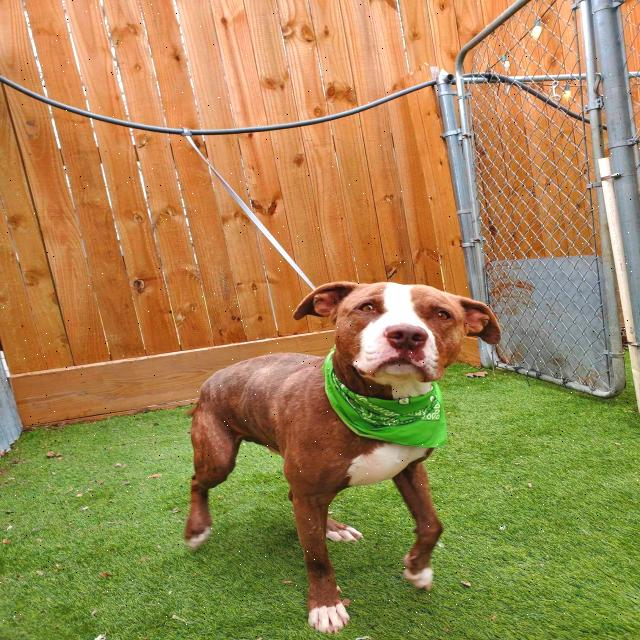labrador_retriever_dog: (281, 260, 515, 406)
